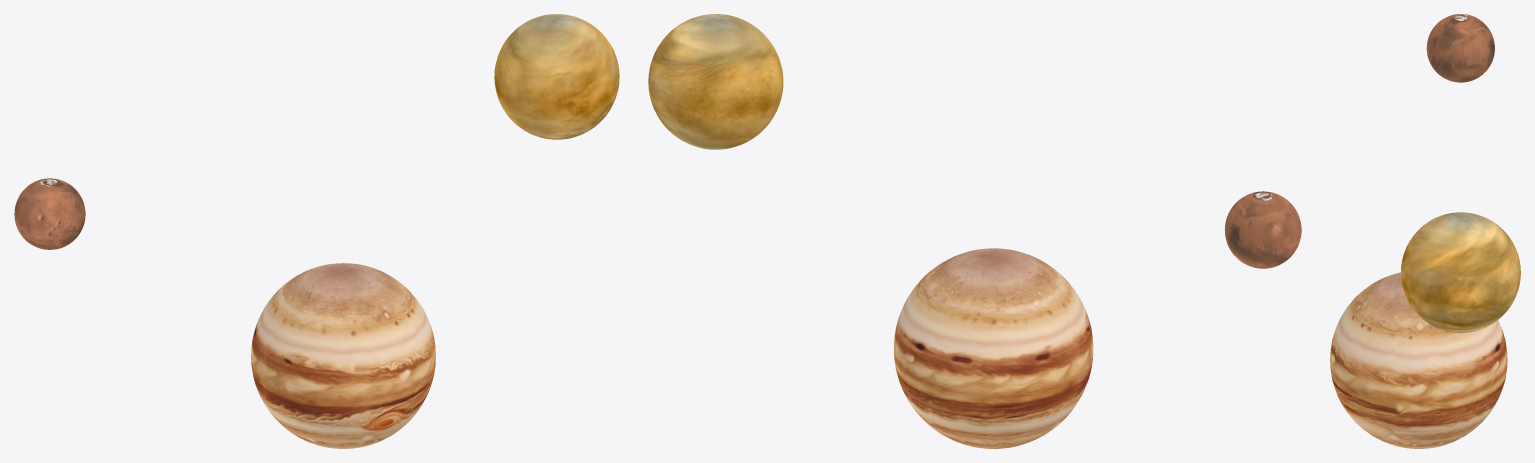
Rendered from asset.glb.
3 views of the same model, side by side, from view 1: azimuth 30°, elevation 25°; view 2: azimuth 150°, elevation 25°; view 3: azimuth 270°, elevation 25° (orthographic). The views are drawn at different scales.
Parts seen in each view (by area): view 1: Sphere, Sphere.002, Sphere.001; view 2: Sphere, Sphere.002, Sphere.001; view 3: Sphere, Sphere.002, Sphere.001.
Boxes of the visible parts, x1=… form: Sphere: x1=251, y1=263, x2=435, y2=448; Sphere.002: x1=494, y1=14, x2=619, y2=139; Sphere.001: x1=14, y1=178, x2=85, y2=249; Sphere: x1=894, y1=248, x2=1093, y2=448; Sphere.002: x1=648, y1=14, x2=783, y2=149; Sphere.001: x1=1224, y1=191, x2=1301, y2=268; Sphere: x1=1330, y1=272, x2=1507, y2=448; Sphere.002: x1=1400, y1=212, x2=1520, y2=332; Sphere.001: x1=1426, y1=14, x2=1494, y2=82.
Bounding box in the file's own units: 7.29 × 4.09 × 2.12.
3 materials, 3 textured.
